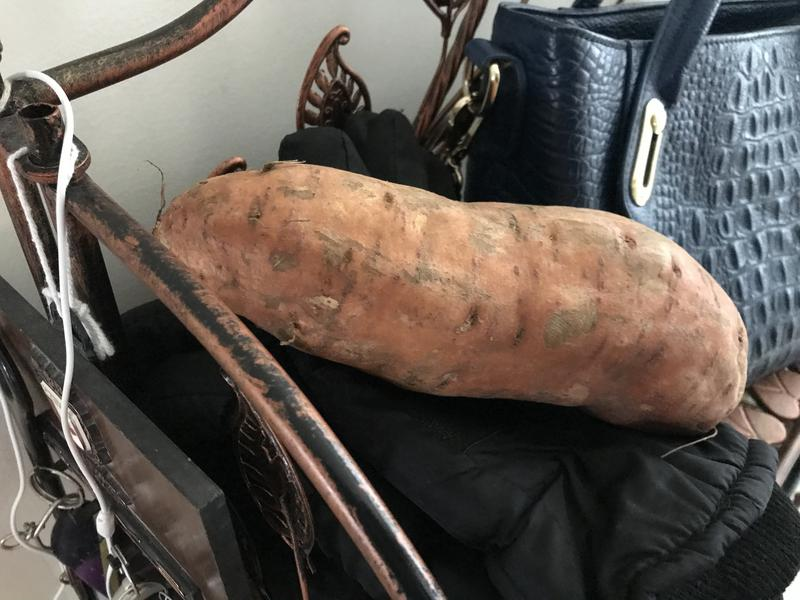sweet_potato: (141, 152, 757, 452)
